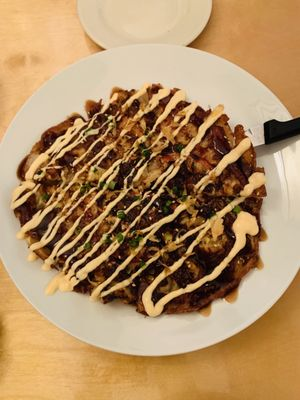pizza: (76, 0, 213, 50)
